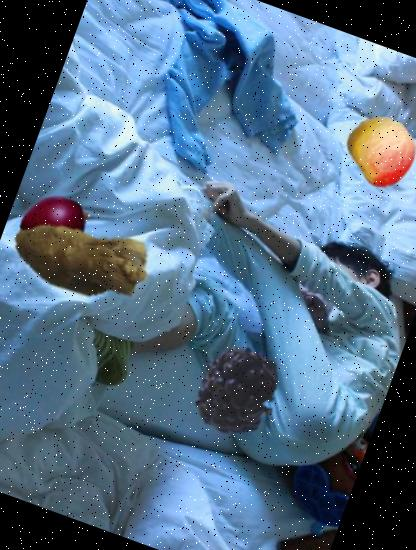Apple: (337, 105, 416, 195)
Ginger: (0, 169, 168, 346)
Mulberry: (163, 316, 300, 452)
Tamarillo: (9, 176, 100, 268)
